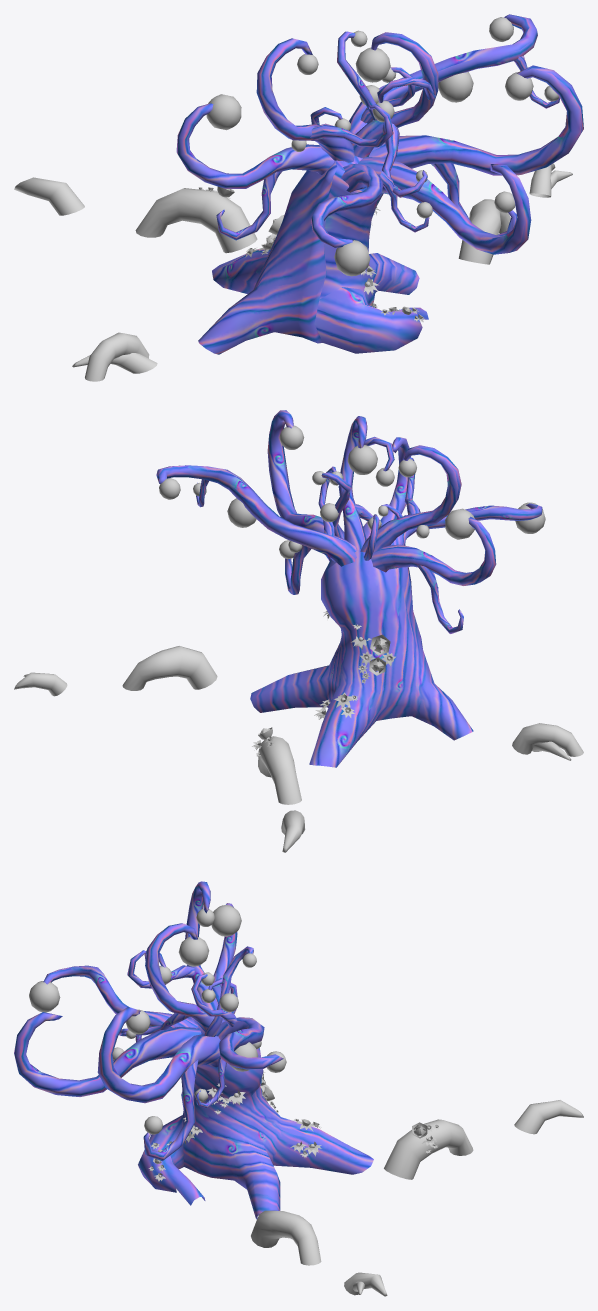
File: WorldTree.fbx
The picture shows the model from 3 angles, top to bottom: view 1: azimuth 30°, elevation 25°; view 2: azimuth 150°, elevation 25°; view 3: azimuth 270°, elevation 25°; orthographic projection. The views are drawn at different scales.
Parts seen in each view (by area): view 1: WorldTree, WorldTreeBubbles, Root_Pathway01, Root_Pathway02, Root_Clump01; view 2: WorldTree, WorldTreeBubbles, Root_Pathway02, Root_Pathway01, Root_Clump01; view 3: WorldTree, WorldTreeBubbles, Root_Pathway01, Root_Pathway02.
Part boxes in pixels (x1,y1,x2,y2): WorldTree: (176, 14, 583, 354); WorldTreeBubbles: (206, 17, 559, 276); Root_Pathway01: (14, 177, 257, 253); Root_Pathway02: (458, 163, 572, 264); Root_Clump01: (72, 332, 157, 381); WorldTree: (156, 410, 542, 767); WorldTreeBubbles: (159, 425, 545, 558); Root_Pathway02: (14, 646, 217, 696); Root_Pathway01: (258, 736, 305, 852); Root_Clump01: (512, 723, 583, 760); WorldTree: (14, 881, 373, 1219); WorldTreeBubbles: (29, 905, 286, 1134); Root_Pathway01: (384, 1100, 583, 1179); Root_Pathway02: (251, 1210, 387, 1296).
Size of the model in its own units: 35.73 by 19.02 by 35.85.
